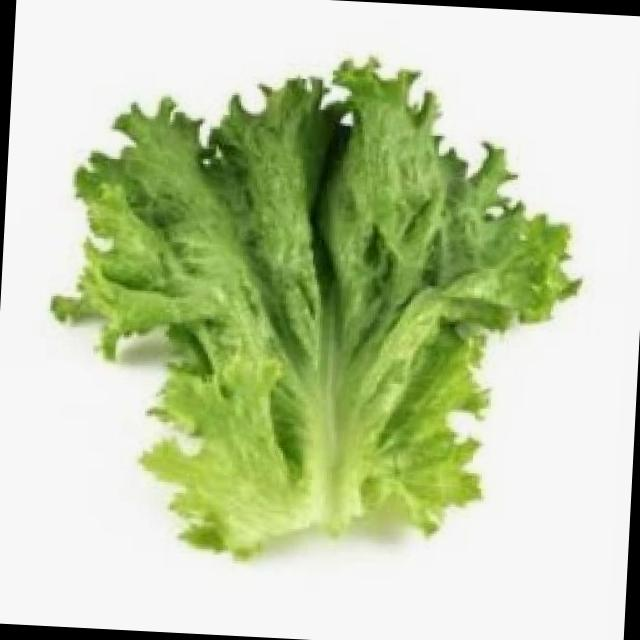Lettuce-Ready-to-Harvest: (54, 60, 577, 556)
